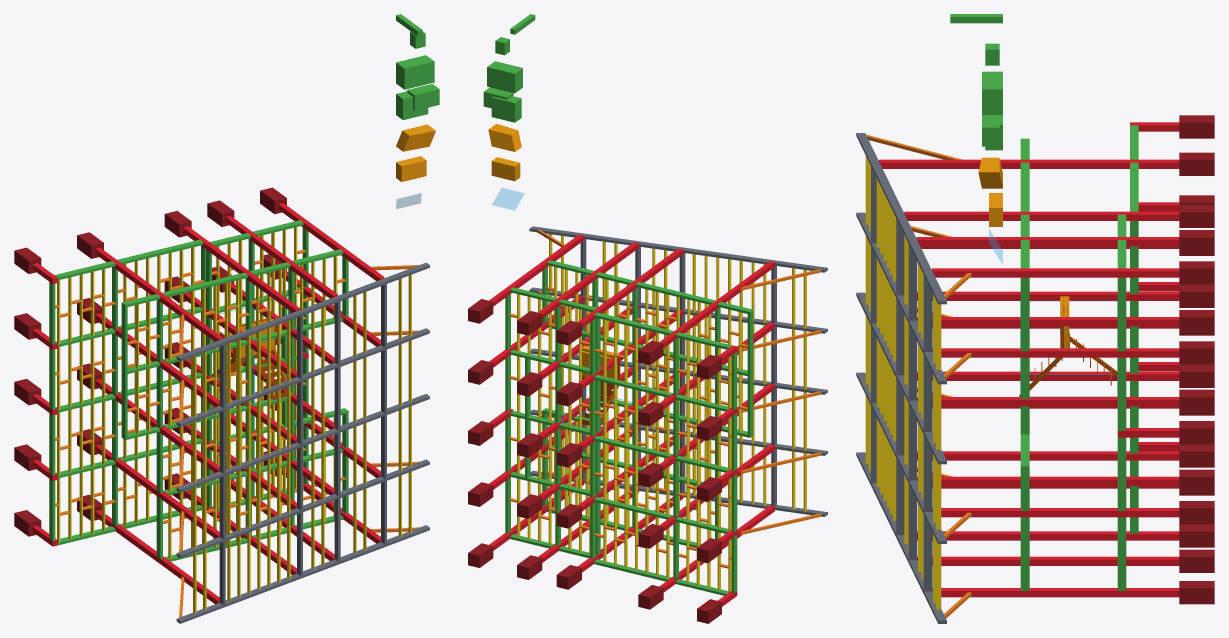
Rendered from tinker.obj.
3 renders of one model, left to right at view 1: azimuth 30°, elevation 25°; view 2: azimuth 150°, elevation 25°; view 3: azimuth 270°, elevation 25°, orthographic. The views are drawn at different scales.
Parts seen in each view (by area): view 1: obj_1, obj_420, obj_2, obj_20, obj_15, obj_3, obj_421, obj_4, obj_11, obj_6, obj_419, obj_7 (+9 smaller); view 2: obj_1, obj_420, obj_2, obj_421, obj_3, obj_4, obj_419, obj_20, obj_15, obj_7, obj_21, obj_12 (+11 smaller); view 3: obj_1, obj_2, obj_3, obj_4, obj_9, obj_18, obj_23, obj_13, obj_17, obj_22, obj_8, obj_16 (+53 smaller).
Part boxes in pixels (x1,y1,x2,y2): obj_1: (95, 247, 222, 341); obj_420: (396, 84, 439, 119); obj_2: (183, 226, 300, 312); obj_20: (95, 510, 219, 603); obj_15: (95, 444, 219, 538); obj_3: (225, 216, 337, 298); obj_421: (396, 55, 434, 89); obj_4: (278, 203, 384, 280); obj_11: (95, 379, 219, 472); obj_6: (95, 313, 219, 407); obj_419: (396, 124, 435, 151); obj_7: (183, 292, 296, 378); obj_1: (659, 261, 774, 347); obj_420: (483, 87, 521, 122); obj_2: (578, 248, 683, 327); obj_421: (487, 61, 522, 93); obj_3: (538, 242, 638, 318); obj_4: (489, 234, 584, 306); obj_419: (488, 123, 521, 151); obj_20: (659, 505, 774, 592); obj_15: (659, 444, 774, 531); obj_7: (578, 310, 683, 389); obj_21: (578, 496, 683, 572); obj_12: (578, 372, 683, 450); obj_1: (879, 159, 1179, 168); obj_2: (904, 211, 1179, 220); obj_3: (916, 237, 1179, 246); obj_4: (932, 268, 1179, 277); obj_9: (932, 348, 1179, 357); obj_18: (932, 508, 1179, 517); obj_23: (932, 588, 1179, 597); obj_13: (917, 397, 1179, 406); obj_17: (917, 476, 1179, 485); obj_22: (917, 556, 1179, 565); obj_8: (917, 317, 1179, 326); obj_16: (917, 451, 1179, 460).
Bounding box in the file's own units: 132 × 192 × 102.
